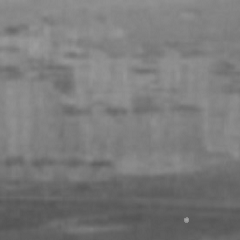Target: (183, 216, 190, 224)
